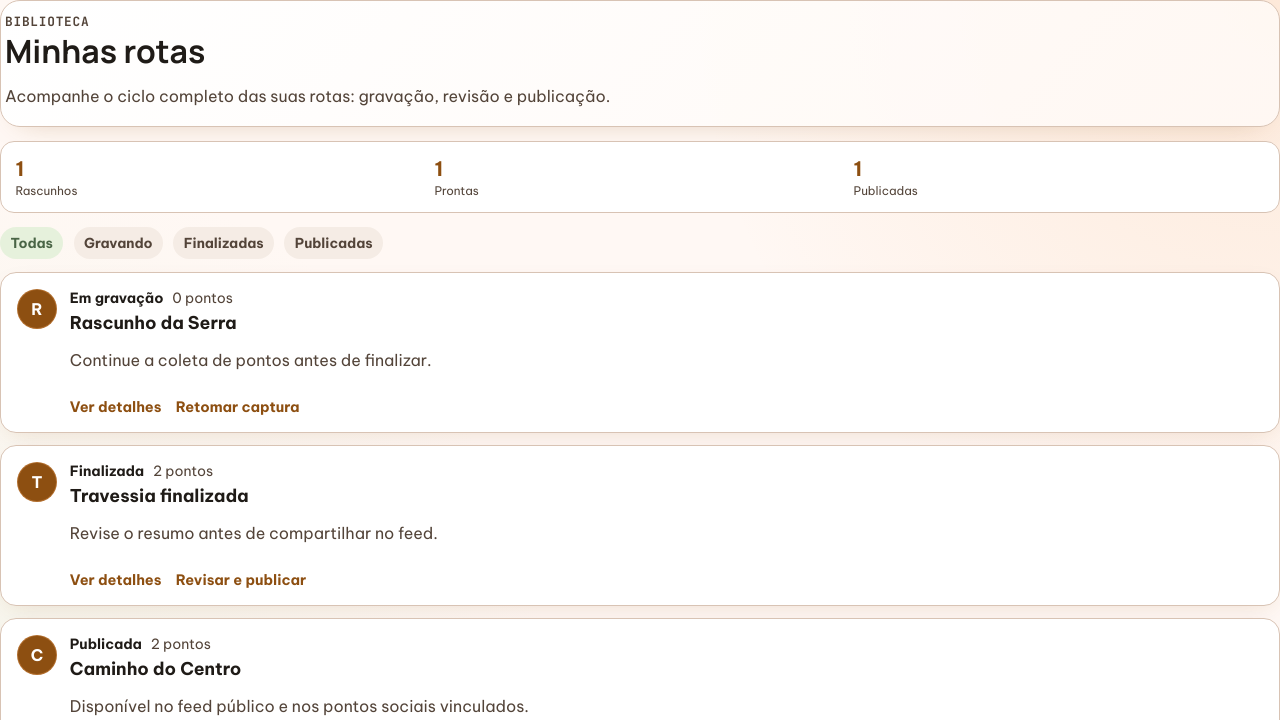
Test: Web views › protects and filters my routes
Expected: the heading "Minhas rotas" is shown, 5,29 -> 205,73
Click the button "Finalizadas": (224, 243) 173,227 -> 274,259
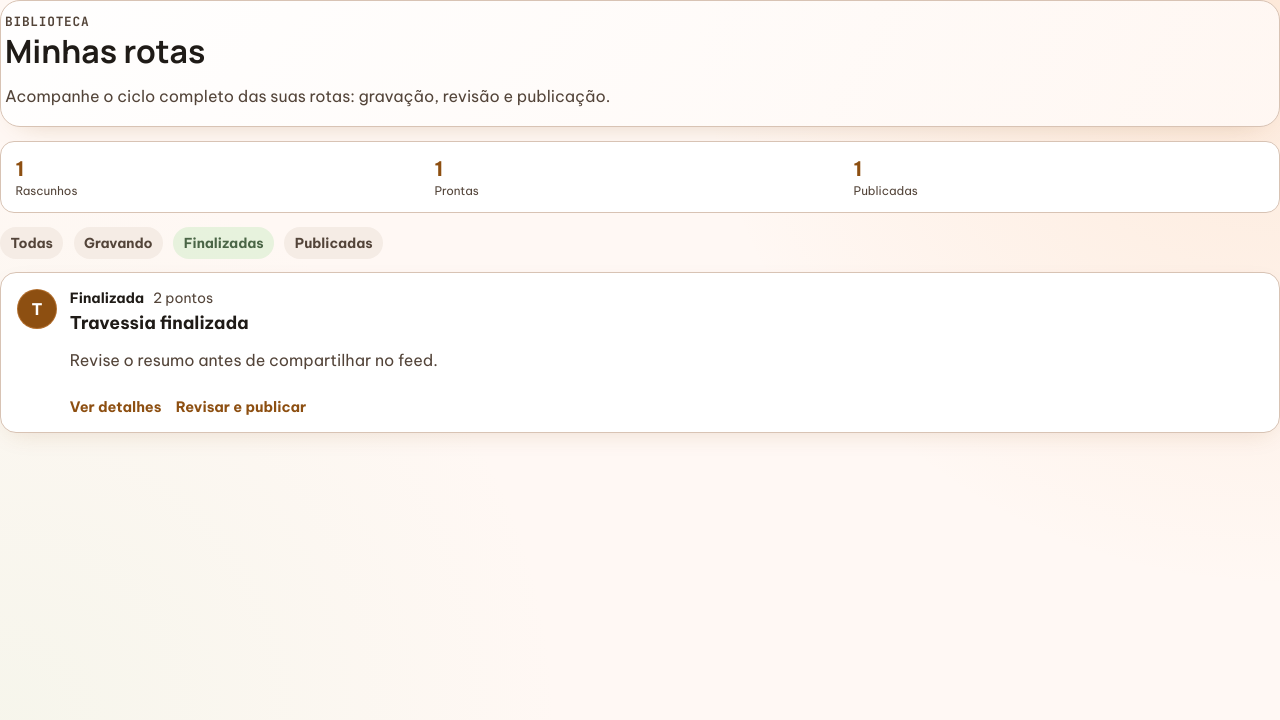
Expected: the link "Rascunho da Serra" is gone
